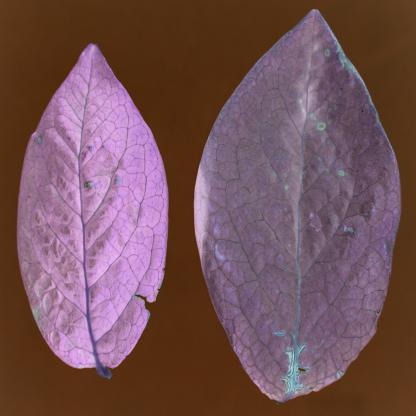blueberry leaf: (192, 6, 401, 410), (16, 38, 177, 398)
